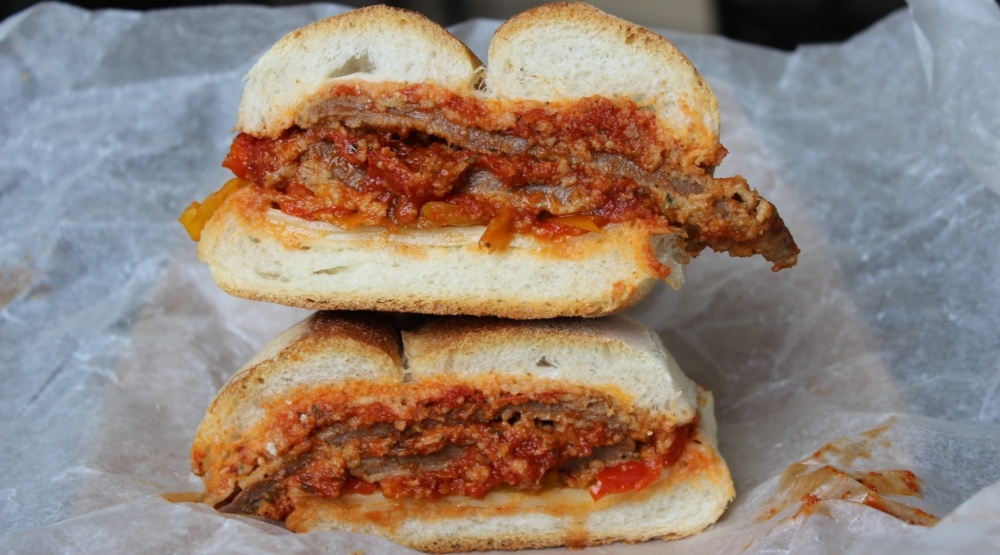sandwich: (149, 3, 806, 347), (154, 257, 808, 553)
